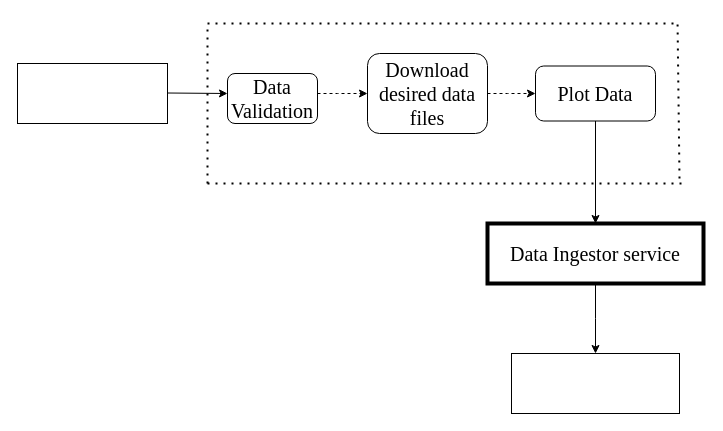
The diagram is 723 pixels wide and 431 high, and some of its shapes have lost their labels. Here are the shapes that lost their labels. From the top down, the centre of each, then its label:
the point at 92,93: Nexrad AWS S3 bucket
the point at 595,383: Server side file system
